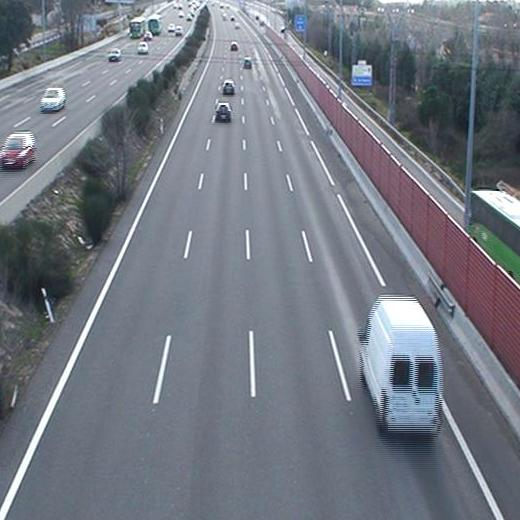car: (213, 102, 234, 123), (220, 78, 236, 97), (242, 57, 255, 70)
van: (358, 295, 442, 437)
